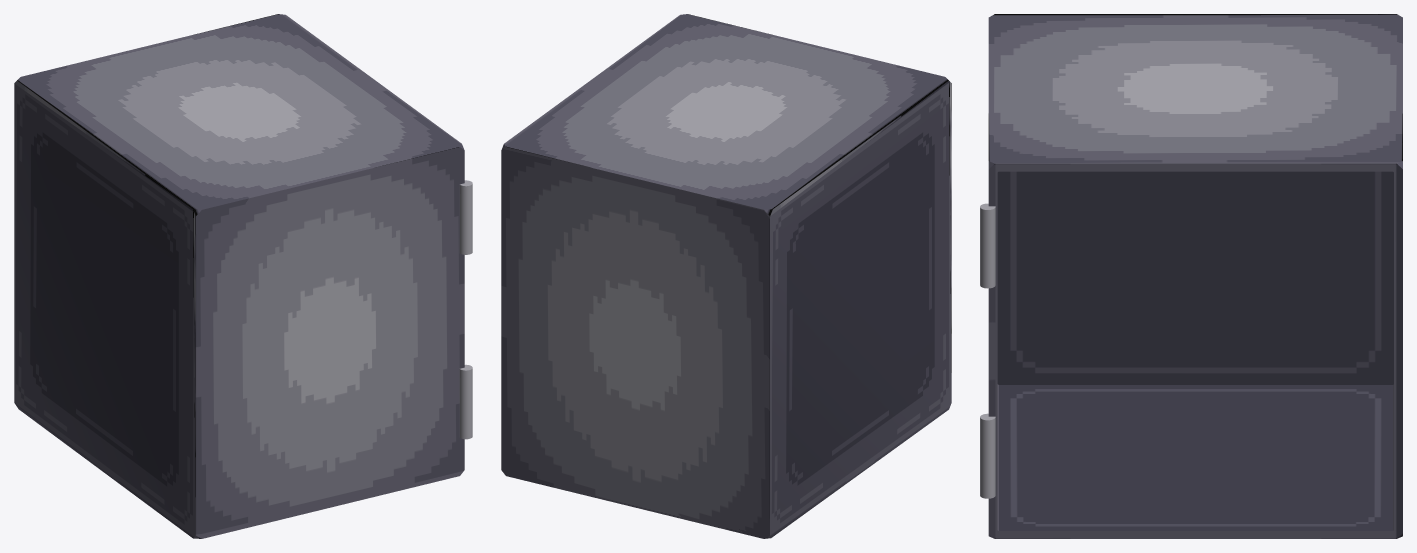
Rendered from Rush_Safe.glb.
The picture shows the model from 3 angles, left to right: view 1: azimuth 30°, elevation 25°; view 2: azimuth 150°, elevation 25°; view 3: azimuth 270°, elevation 25°; orthographic projection. The views are drawn at different scales.
Visible parts, largest first — view 1: Cube.002, Cylinder.003, Cylinder.004; view 2: Cube.002; view 3: Cube.002, Cylinder.004, Cylinder.003.
Part boxes in pixels (box(x1,y1,x2,y2)): Cube.002: box(14, 14, 464, 538); Cylinder.003: box(459, 180, 472, 254); Cylinder.004: box(459, 364, 472, 439); Cube.002: box(501, 14, 951, 538); Cube.002: box(988, 14, 1402, 538); Cylinder.004: box(980, 413, 995, 498); Cylinder.003: box(980, 203, 995, 288).
Size of the model in its own units: 1.75 by 2 by 2.04.
2 materials, 2 textured.
